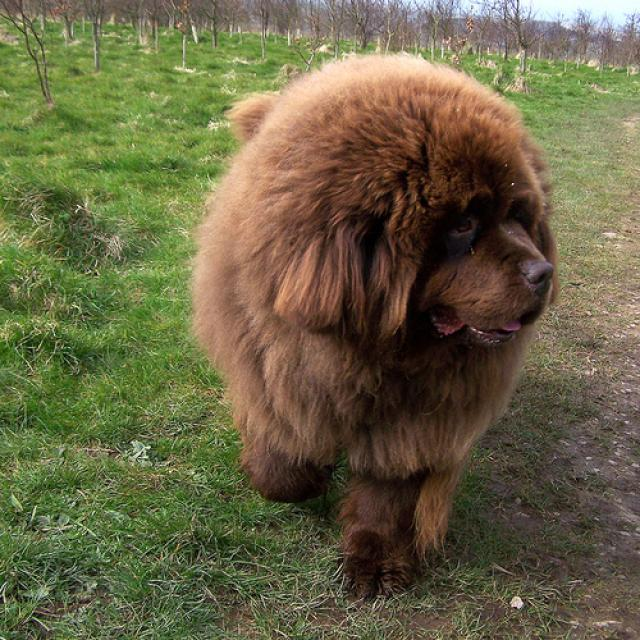dog-newfoundland: (175, 47, 567, 580)
